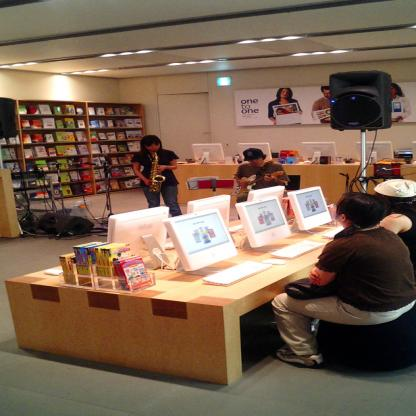book: (110, 253, 154, 294), (92, 242, 126, 278), (33, 180, 94, 200), (28, 169, 92, 186), (60, 252, 91, 287), (26, 156, 88, 173), (71, 240, 98, 276), (22, 130, 87, 144), (21, 145, 88, 158), (91, 138, 143, 154), (20, 117, 88, 129), (94, 176, 141, 193), (17, 104, 86, 115), (90, 115, 144, 129), (90, 130, 146, 142), (96, 165, 138, 179), (93, 153, 134, 167), (86, 105, 137, 116), (0, 133, 23, 144), (2, 162, 22, 174), (13, 194, 28, 209), (0, 147, 17, 159), (12, 179, 22, 189)
